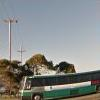Bus: (16, 70, 100, 100)
